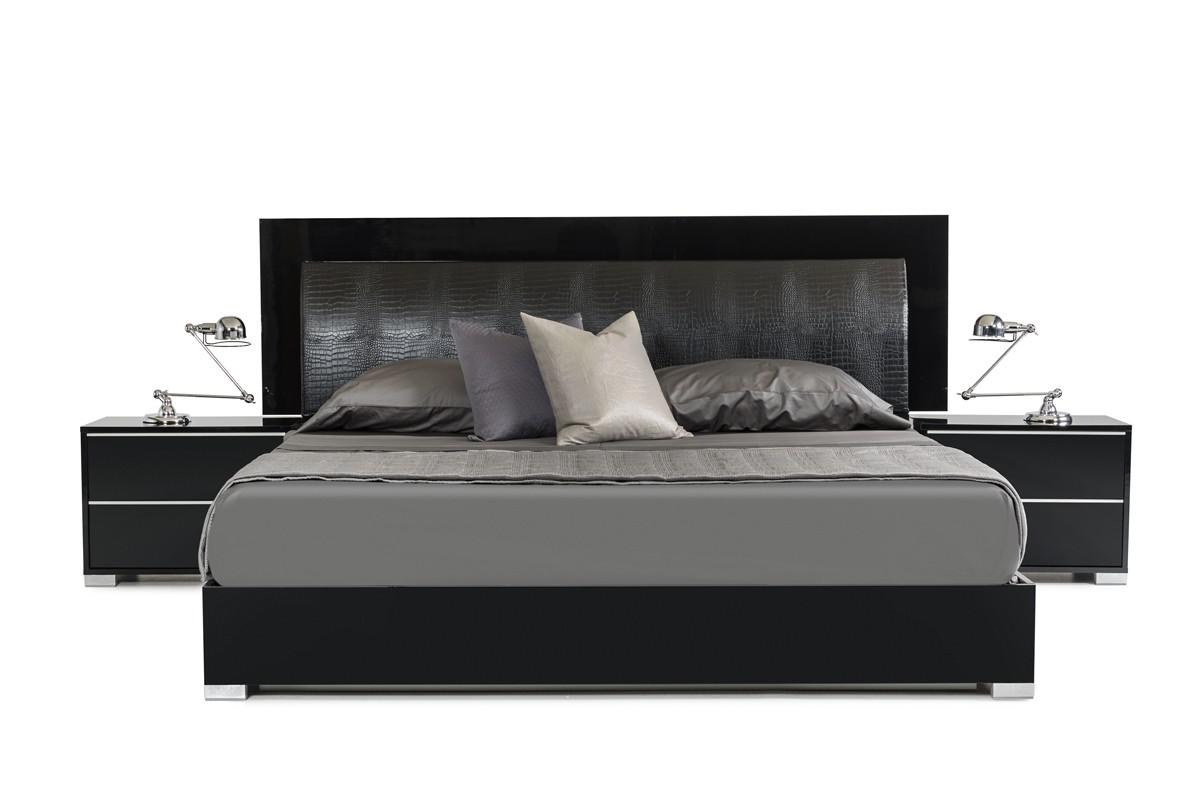bed: (189, 198, 1081, 743)
